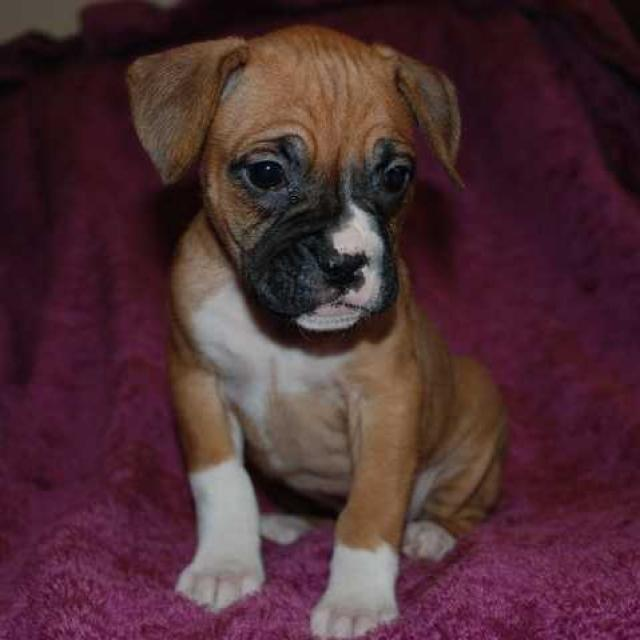dog: (93, 15, 530, 373)
